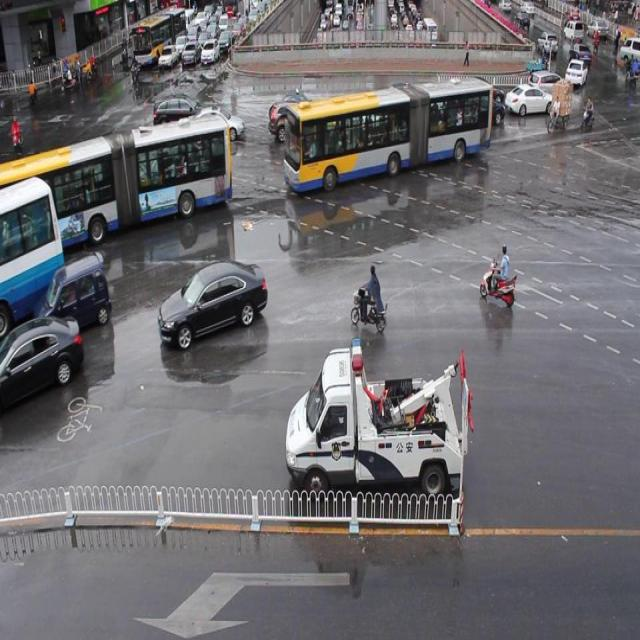bus: (285, 338, 464, 498)
car: (158, 257, 266, 350), (1, 177, 64, 329), (1, 313, 84, 416), (33, 252, 112, 332), (504, 81, 550, 118), (527, 72, 564, 101)
van: (1, 113, 231, 251), (285, 74, 491, 188)
